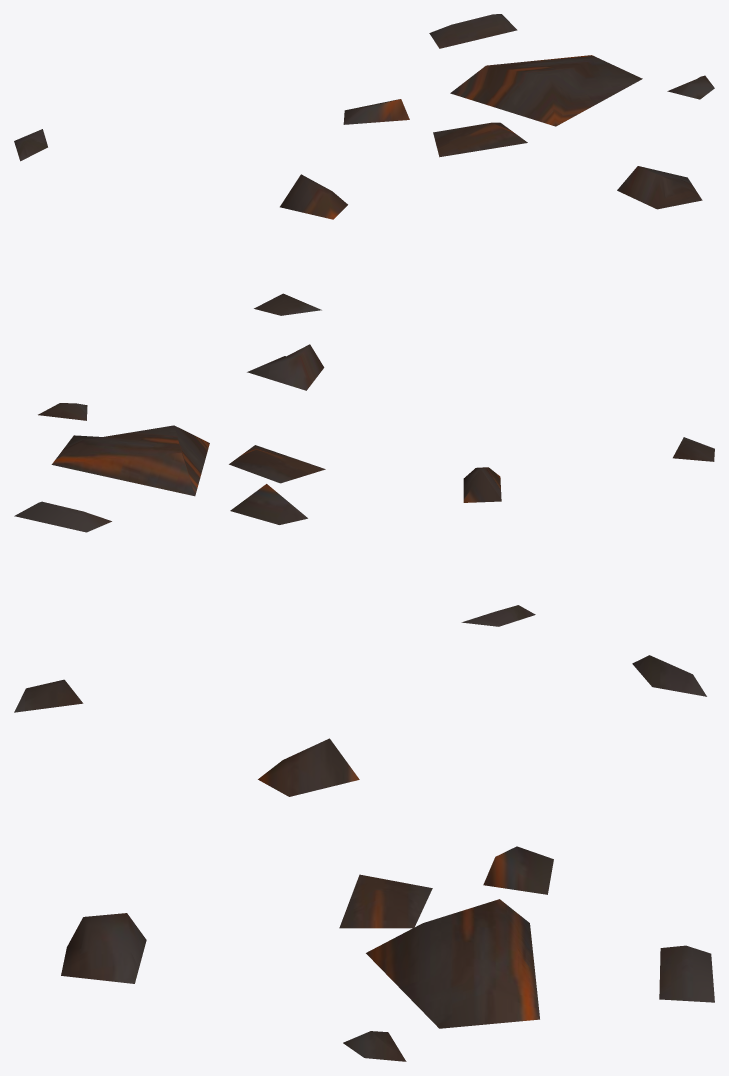
Rendered from Rock_scatter01.FBX.
The picture shows the model from 3 angles, top to bottom: view 1: azimuth 30°, elevation 25°; view 2: azimuth 150°, elevation 25°; view 3: azimuth 270°, elevation 25°; orthographic projection. The views are drawn at different scales.
Parts seen in each view (by area): view 1: Rock_scatter01; view 2: Rock_scatter01; view 3: Rock_scatter01.
Boxes of the visible parts, left/top/right/bottom form: Rock_scatter01: left=14, top=14, right=714, bottom=315; Rock_scatter01: left=14, top=344, right=714, bottom=626; Rock_scatter01: left=14, top=655, right=714, bottom=1061.
Bounding box in the file's own units: 15.24 × 0.7234 × 11.34.
